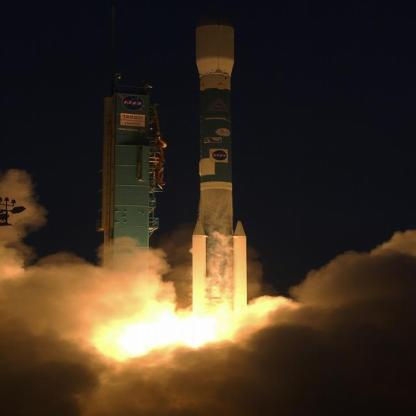MIL_TBM: (228, 218, 254, 308), (190, 213, 210, 305)
